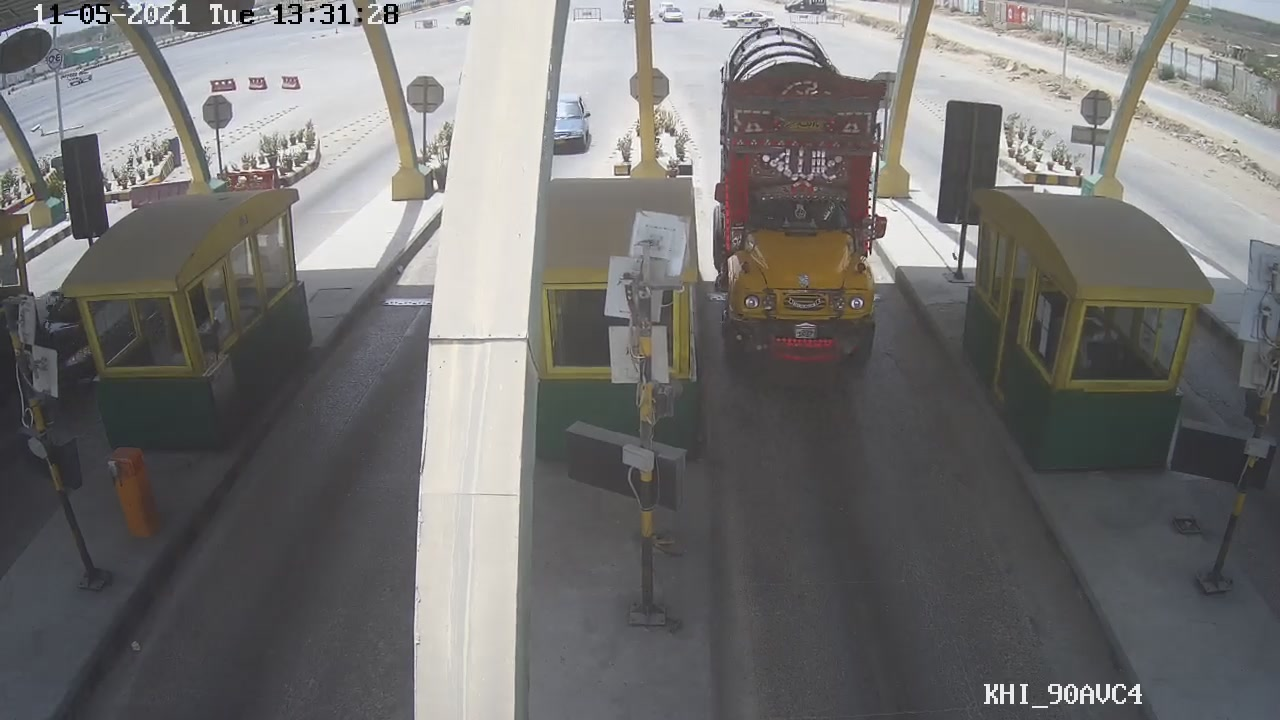F5: (709, 59, 894, 376)
